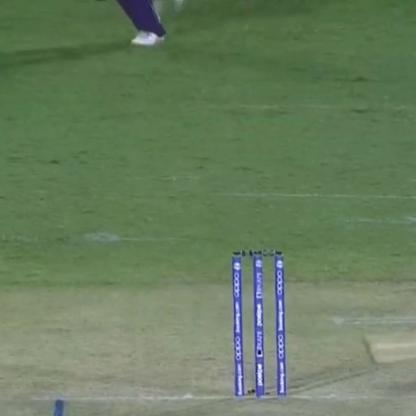bat: (364, 329, 415, 364)
